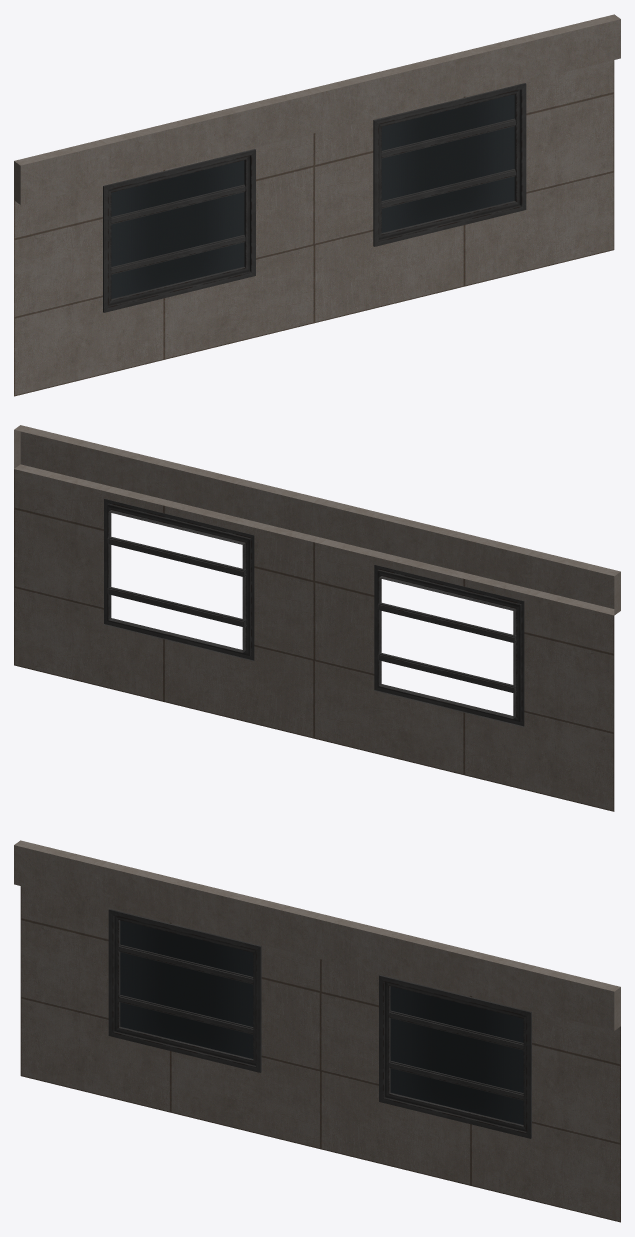
Rendered from House_02_Window_03.fbx.
3 views of the same model, one above another, from view 1: azimuth 30°, elevation 25°; view 2: azimuth 150°, elevation 25°; view 3: azimuth 330°, elevation 25° (orthographic).
Visible parts, largest first — view 1: House_02_Window_03_LOD0; view 2: House_02_Window_03_LOD0; view 3: House_02_Window_03_LOD0.
Boxes of the visible parts, x1,y1,x2,y2 form: House_02_Window_03_LOD0: (14, 14, 620, 396); House_02_Window_03_LOD0: (14, 425, 620, 811); House_02_Window_03_LOD0: (14, 840, 620, 1222).
Size of what is drawn, in the model's own units: 400 by 150 by 11.57.
